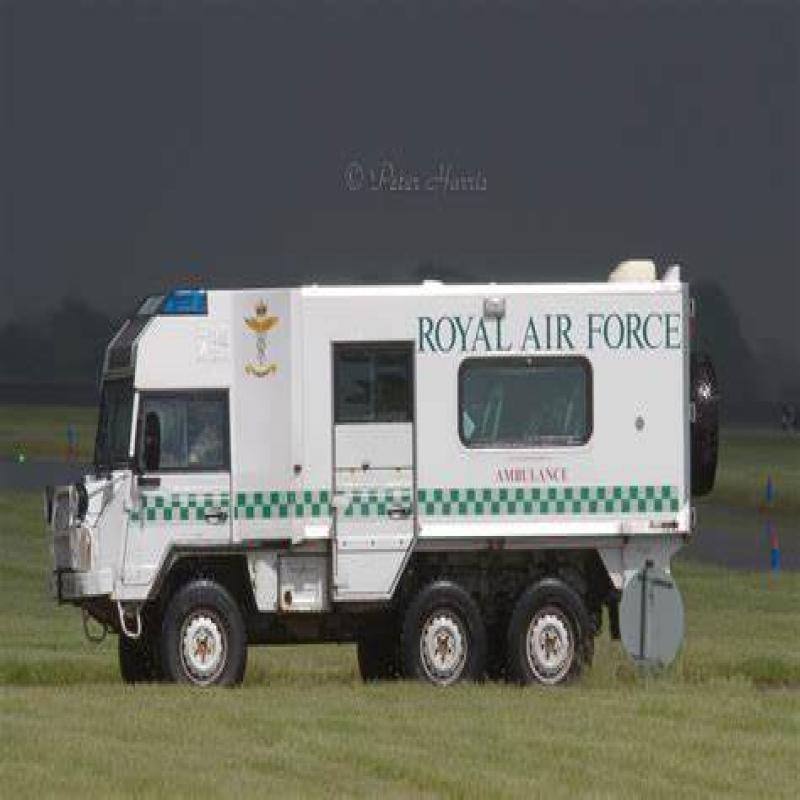AmbulanceSiren: (125, 277, 218, 324)
